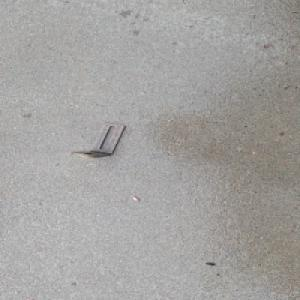MetalPart: (69, 122, 126, 158)
